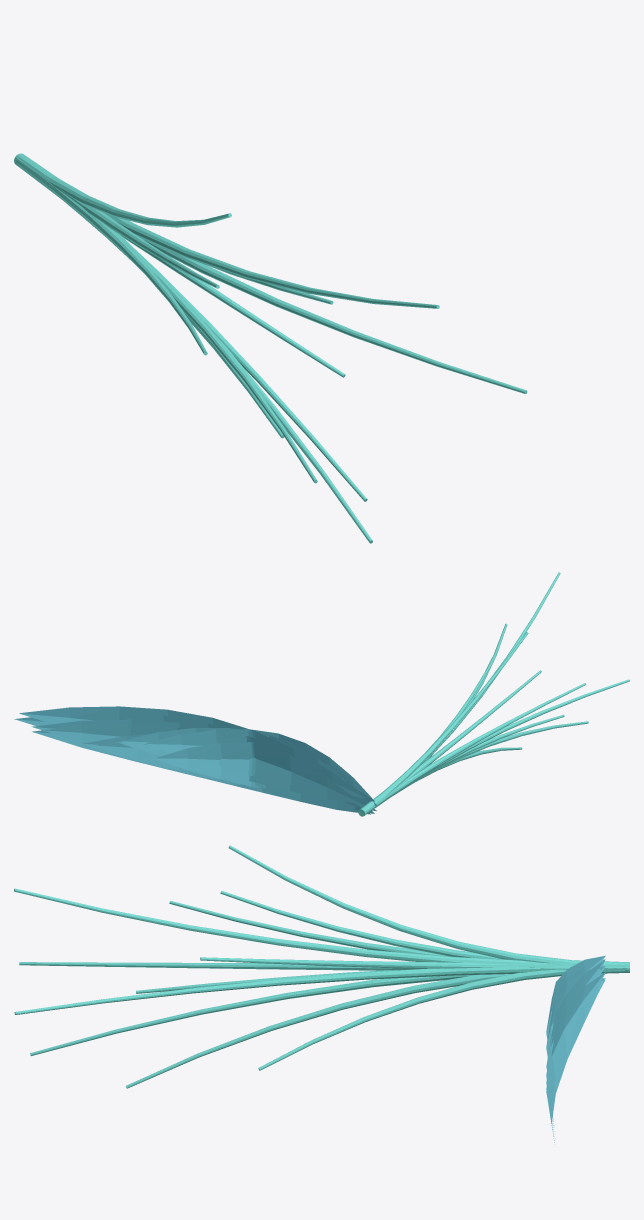
The model's file is Aquarion_Ribbon_Kelp.glb.
3 renders of one model, top to bottom at view 1: azimuth 30°, elevation 25°; view 2: azimuth 150°, elevation 25°; view 3: azimuth 270°, elevation 25°, orthographic. The views are drawn at different scales.
Parts seen in each view (by area): view 1: Aquarion_Ribbon_Kelp_blade_stem_0_3; view 2: Aquarion_Ribbon_Kelp_blade_2_0, Aquarion_Ribbon_Kelp_blade_0_0, Aquarion_Ribbon_Kelp_blade_8_0, Aquarion_Ribbon_Kelp_blade_10_0, Aquarion_Ribbon_Kelp_blade_3_0, Aquarion_Ribbon_Kelp_blade_6_0, Aquarion_Ribbon_Kelp_blade_1_0, Aquarion_Ribbon_Kelp_blade_7_0, Aquarion_Ribbon_Kelp_blade_4_0, Aquarion_Ribbon_Kelp_blade_9_0, Aquarion_Ribbon_Kelp_blade_5_0; view 3: Aquarion_Ribbon_Kelp_blade_0_0, Aquarion_Ribbon_Kelp_blade_2_0, Aquarion_Ribbon_Kelp_blade_stem_0_2, Aquarion_Ribbon_Kelp_blade_stem_2_2, Aquarion_Ribbon_Kelp_blade_stem_2_3, Aquarion_Ribbon_Kelp_blade_stem_0_3, Aquarion_Ribbon_Kelp_blade_stem_8_3, Aquarion_Ribbon_Kelp_blade_stem_0_1, Aquarion_Ribbon_Kelp_blade_3_0, Aquarion_Ribbon_Kelp_blade_1_0, Aquarion_Ribbon_Kelp_blade_stem_2_4, Aquarion_Ribbon_Kelp_blade_stem_9_2 (+7 smaller).
Boxes of the visible parts, <box> form: Aquarion_Ribbon_Kelp_blade_stem_0_3: <box>201,265,277,305</box>; Aquarion_Ribbon_Kelp_blade_2_0: <box>19,706,367,798</box>; Aquarion_Ribbon_Kelp_blade_0_0: <box>14,712,362,804</box>; Aquarion_Ribbon_Kelp_blade_8_0: <box>32,724,370,814</box>; Aquarion_Ribbon_Kelp_blade_10_0: <box>154,742,362,809</box>; Aquarion_Ribbon_Kelp_blade_3_0: <box>146,729,371,799</box>; Aquarion_Ribbon_Kelp_blade_6_0: <box>31,719,376,811</box>; Aquarion_Ribbon_Kelp_blade_1_0: <box>121,728,363,800</box>; Aquarion_Ribbon_Kelp_blade_7_0: <box>95,740,374,813</box>; Aquarion_Ribbon_Kelp_blade_4_0: <box>143,730,374,801</box>; Aquarion_Ribbon_Kelp_blade_9_0: <box>82,734,359,812</box>; Aquarion_Ribbon_Kelp_blade_5_0: <box>117,729,376,805</box>; Aquarion_Ribbon_Kelp_blade_0_0: <box>546,972,605,1142</box>; Aquarion_Ribbon_Kelp_blade_2_0: <box>546,959,605,1127</box>; Aquarion_Ribbon_Kelp_blade_stem_0_2: <box>366,968,454,979</box>; Aquarion_Ribbon_Kelp_blade_stem_2_2: <box>366,949,454,962</box>; Aquarion_Ribbon_Kelp_blade_stem_2_3: <box>278,939,366,956</box>; Aquarion_Ribbon_Kelp_blade_stem_0_3: <box>278,972,366,985</box>; Aquarion_Ribbon_Kelp_blade_stem_8_3: <box>287,980,372,998</box>; Aquarion_Ribbon_Kelp_blade_stem_0_1: <box>454,966,542,975</box>; Aquarion_Ribbon_Kelp_blade_3_0: <box>546,955,605,1038</box>; Aquarion_Ribbon_Kelp_blade_1_0: <box>546,966,605,1060</box>; Aquarion_Ribbon_Kelp_blade_stem_2_4: <box>190,925,278,945</box>; Aquarion_Ribbon_Kelp_blade_stem_9_2: <box>413,974,485,992</box>.
Bounding box in the file's own units: 2.18 × 0.7864 × 2.05.
